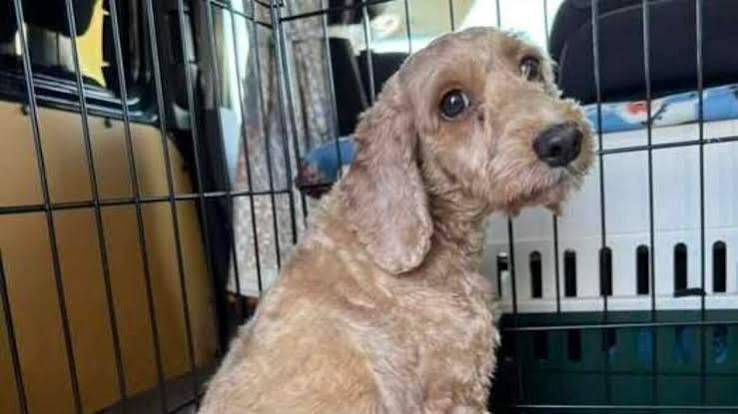adult_dog: (193, 24, 607, 414)
